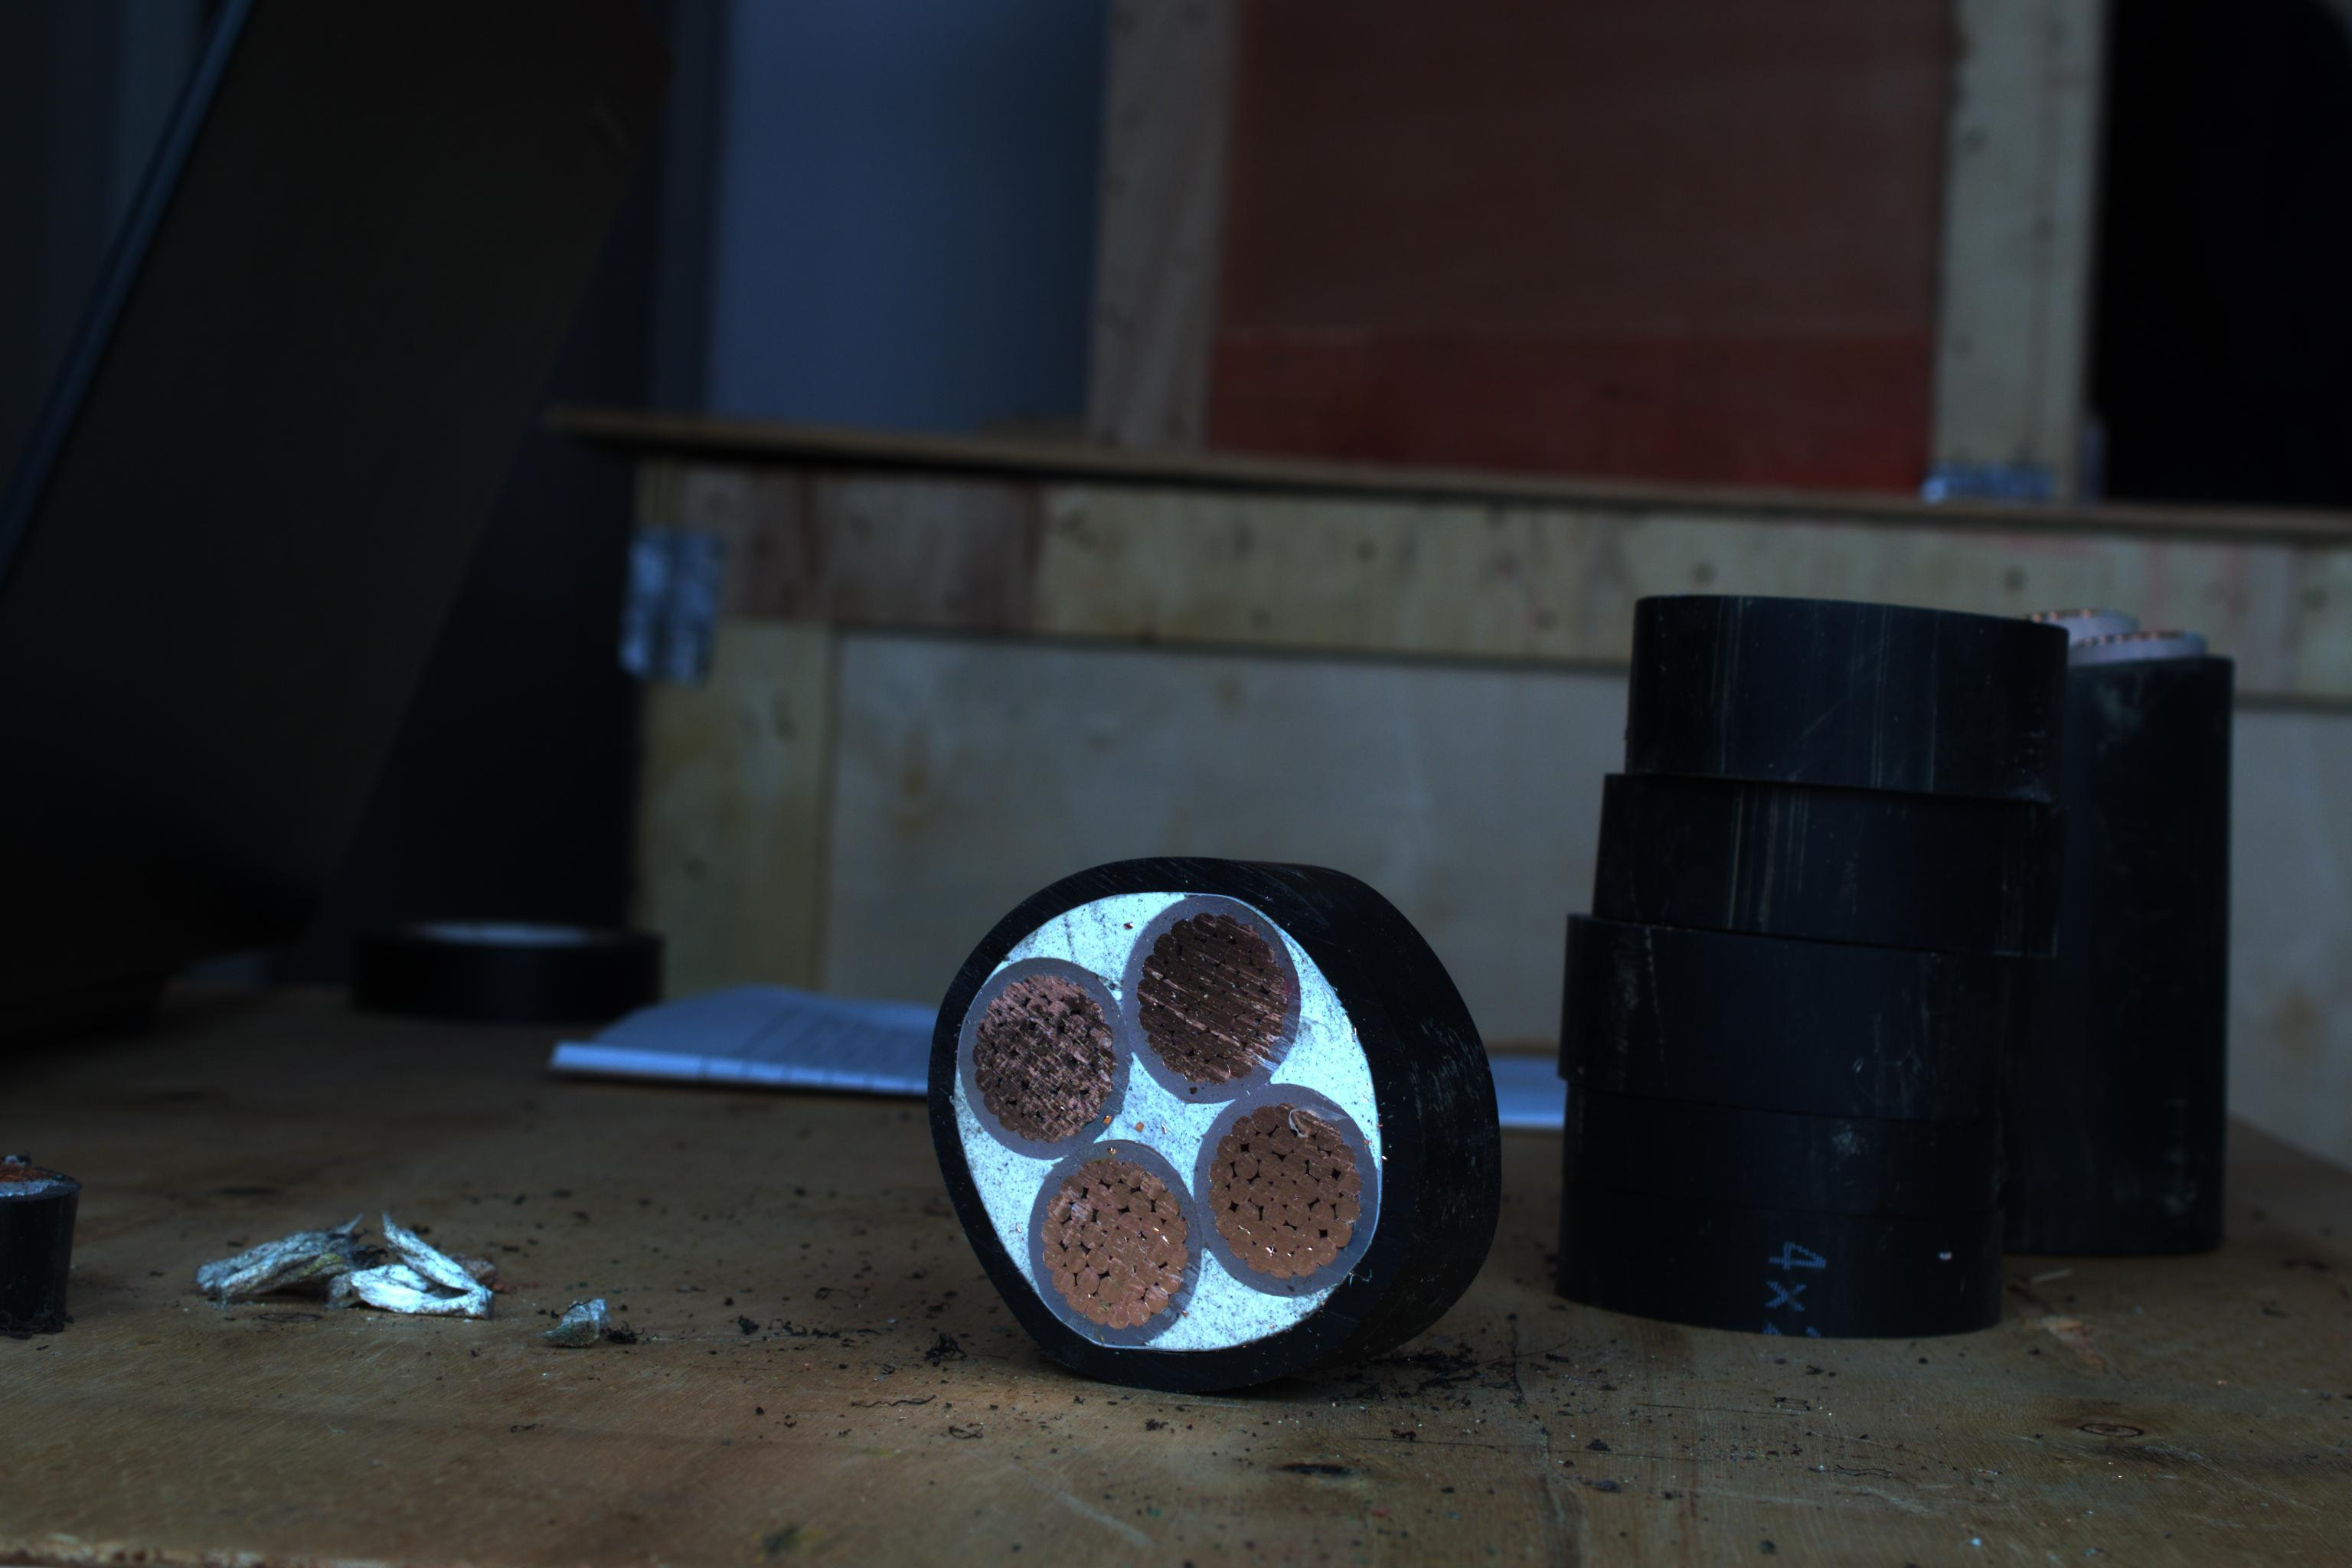YJV_0.6_1kV_4x240: (924, 859, 1407, 1384)
